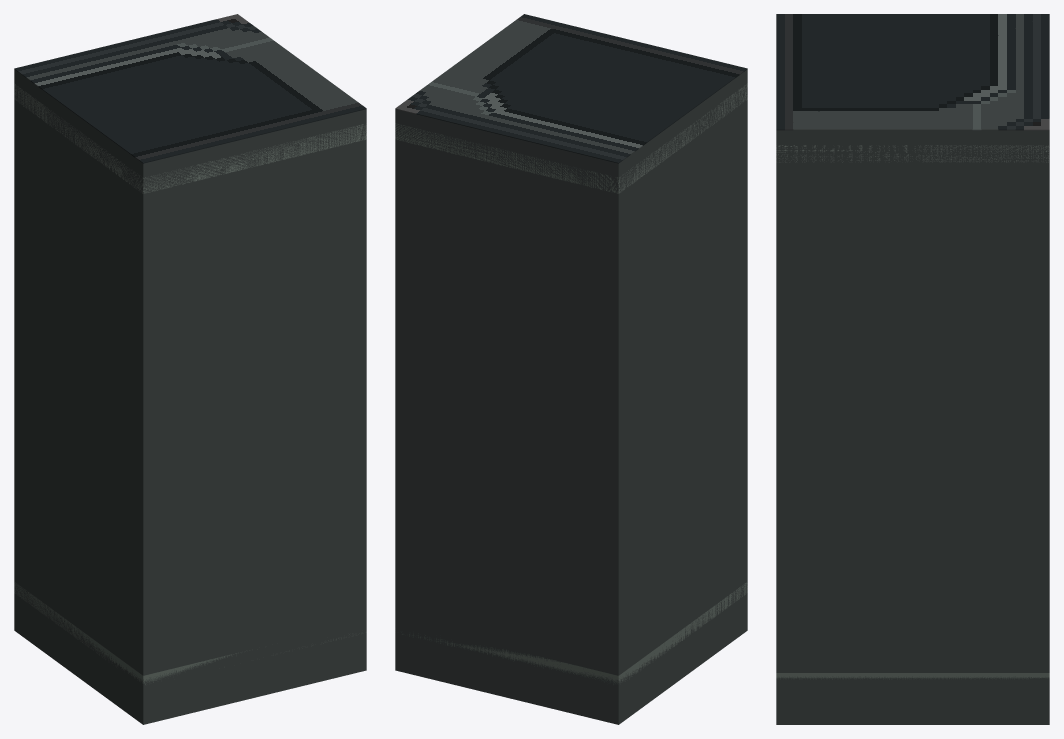
File: CMU3DInteriorVehicleAPCRearWheelR.glb
3 renders of one model, left to right at view 1: azimuth 30°, elevation 25°; view 2: azimuth 150°, elevation 25°; view 3: azimuth 270°, elevation 25°, orthographic. The views are drawn at different scales.
Parts seen in each view (by area): view 1: cabin bulkhead, cabin bulkhead source finish, upper armor trim, lower armor trim; view 2: cabin bulkhead, cabin bulkhead source finish, upper armor trim, lower armor trim; view 3: cabin bulkhead, cabin bulkhead source finish, lower armor trim, upper armor trim.
Boxes of the visible parts, left/top/right/bottom form: cabin bulkhead: left=14, top=69, right=366, bottom=724; cabin bulkhead source finish: left=14, top=14, right=366, bottom=163; upper armor trim: left=14, top=83, right=366, bottom=193; lower armor trim: left=14, top=582, right=366, bottom=684; cabin bulkhead: left=395, top=69, right=747, bottom=724; cabin bulkhead source finish: left=395, top=14, right=747, bottom=163; upper armor trim: left=395, top=83, right=747, bottom=193; lower armor trim: left=401, top=582, right=747, bottom=684; cabin bulkhead: left=776, top=130, right=1049, bottom=724; cabin bulkhead source finish: left=776, top=14, right=1049, bottom=130; lower armor trim: left=776, top=673, right=1049, bottom=679; upper armor trim: left=776, top=145, right=1049, bottom=162.
Bounding box in the file's own units: 1 × 2.4 × 1.
Materials: 4 (1 with a texture image).
